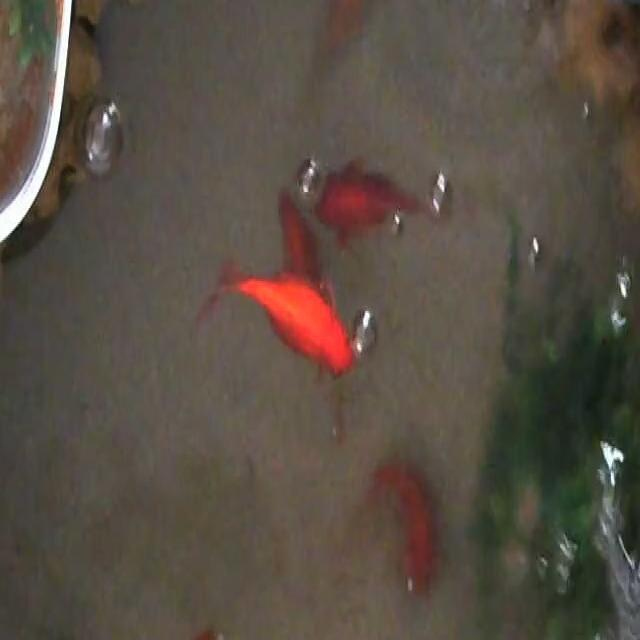fish: (196, 208, 366, 388), (296, 154, 446, 249), (366, 454, 442, 598), (277, 185, 325, 287), (315, 0, 366, 73)
